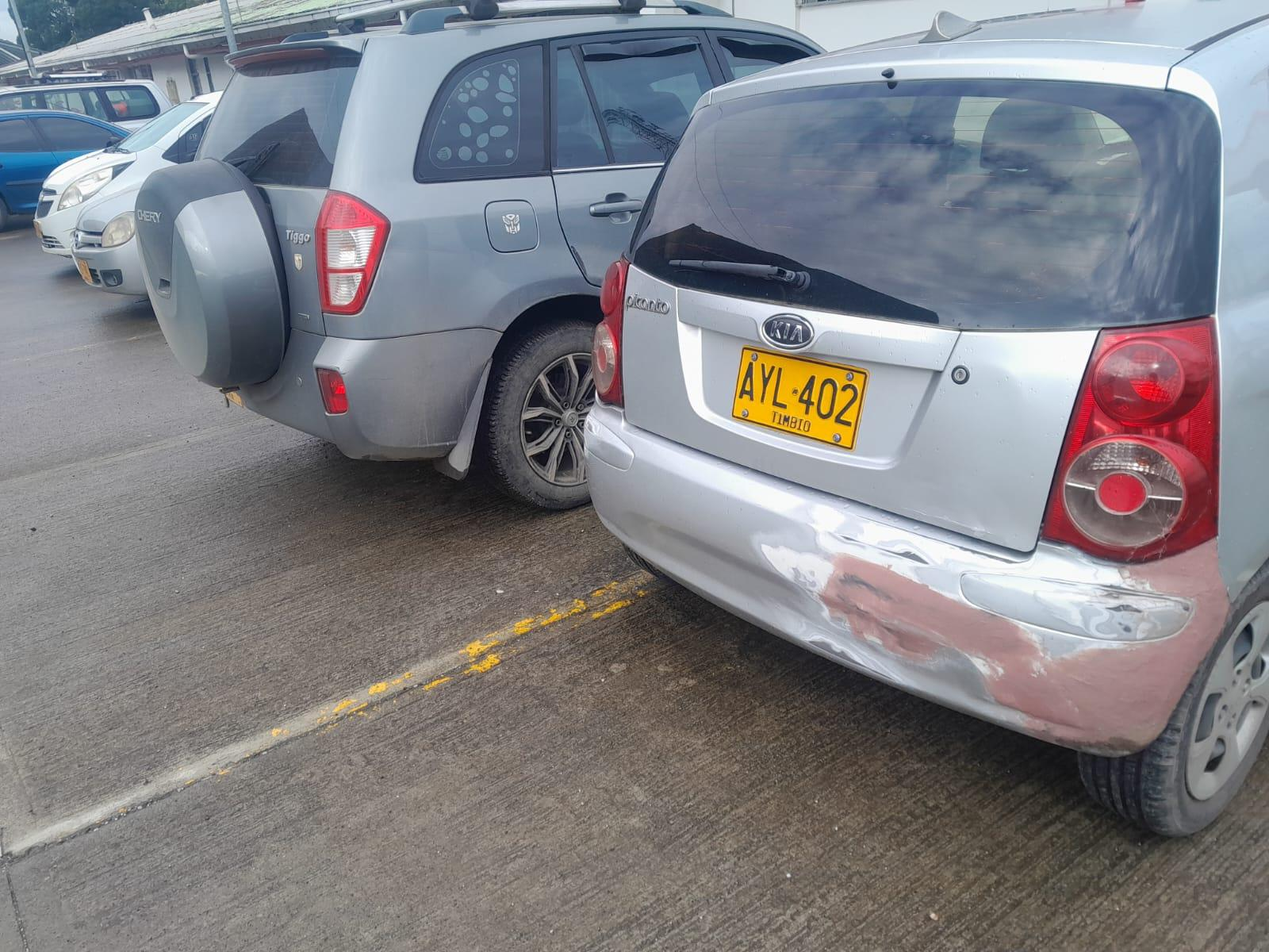placa: (731, 347, 868, 450)
